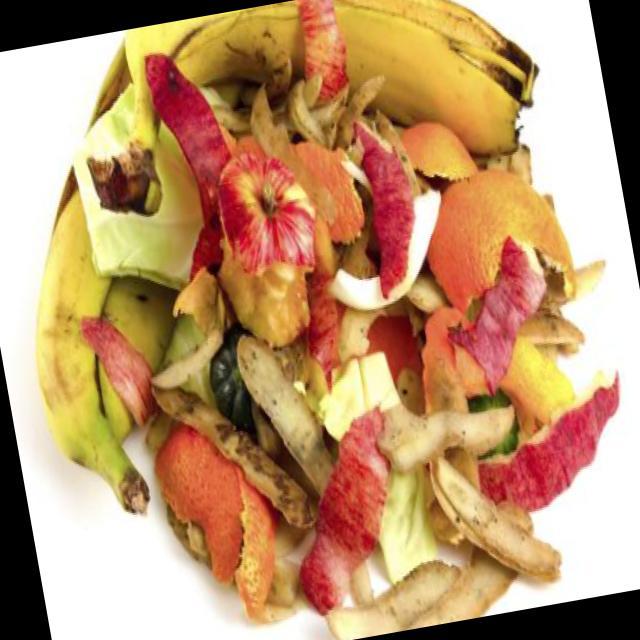paper: (3, 148, 175, 550), (116, 386, 297, 635), (200, 132, 346, 386)
